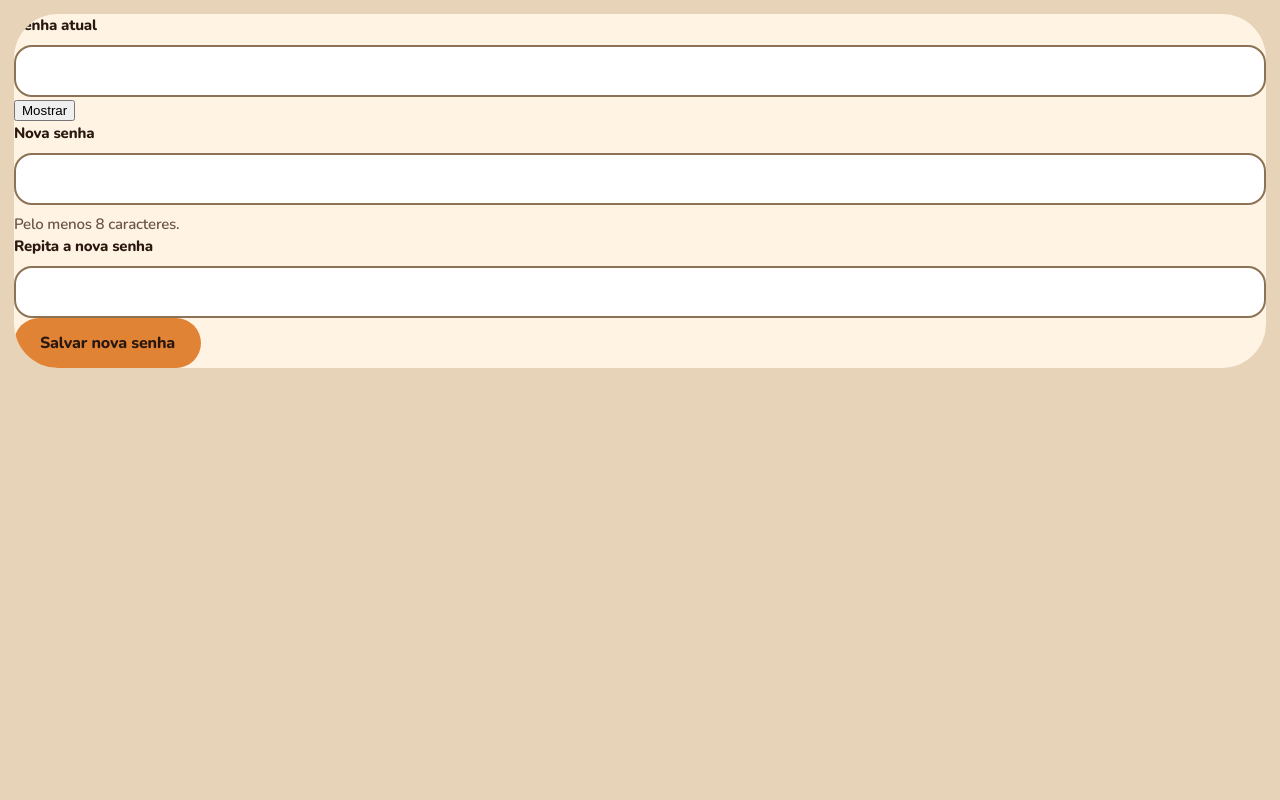
Test: TrocarSenha › deu certo: limpa os campos e avisa
Type "antiga-123" into the password field labelled "Senha atual" at (640, 70), box x1=14 y1=44 x2=1266 y2=96
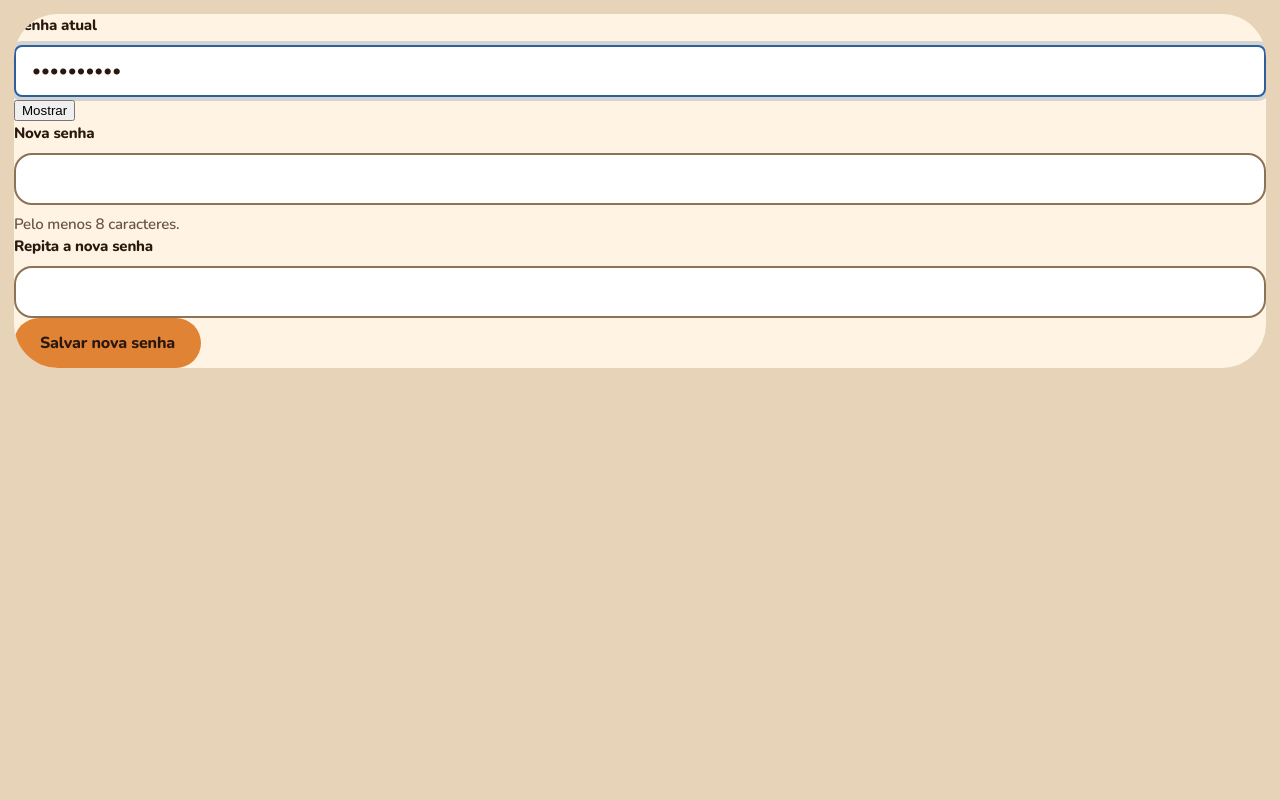
Type "nova-senha-123" into the password field labelled "Nova senha" at (640, 178), box x1=14 y1=152 x2=1266 y2=204
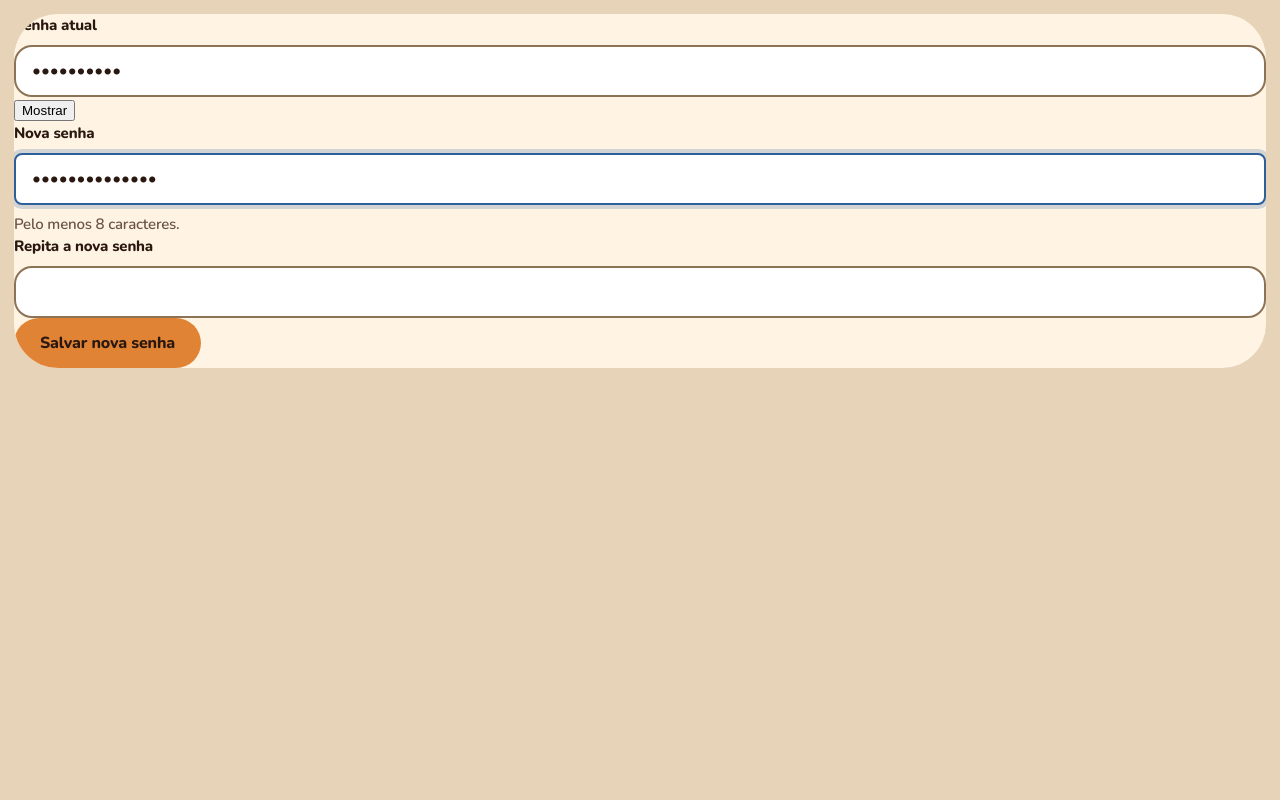
Type "nova-senha-123" into the password field labelled "Repita a nova senha" at (640, 292), box x1=14 y1=266 x2=1266 y2=318
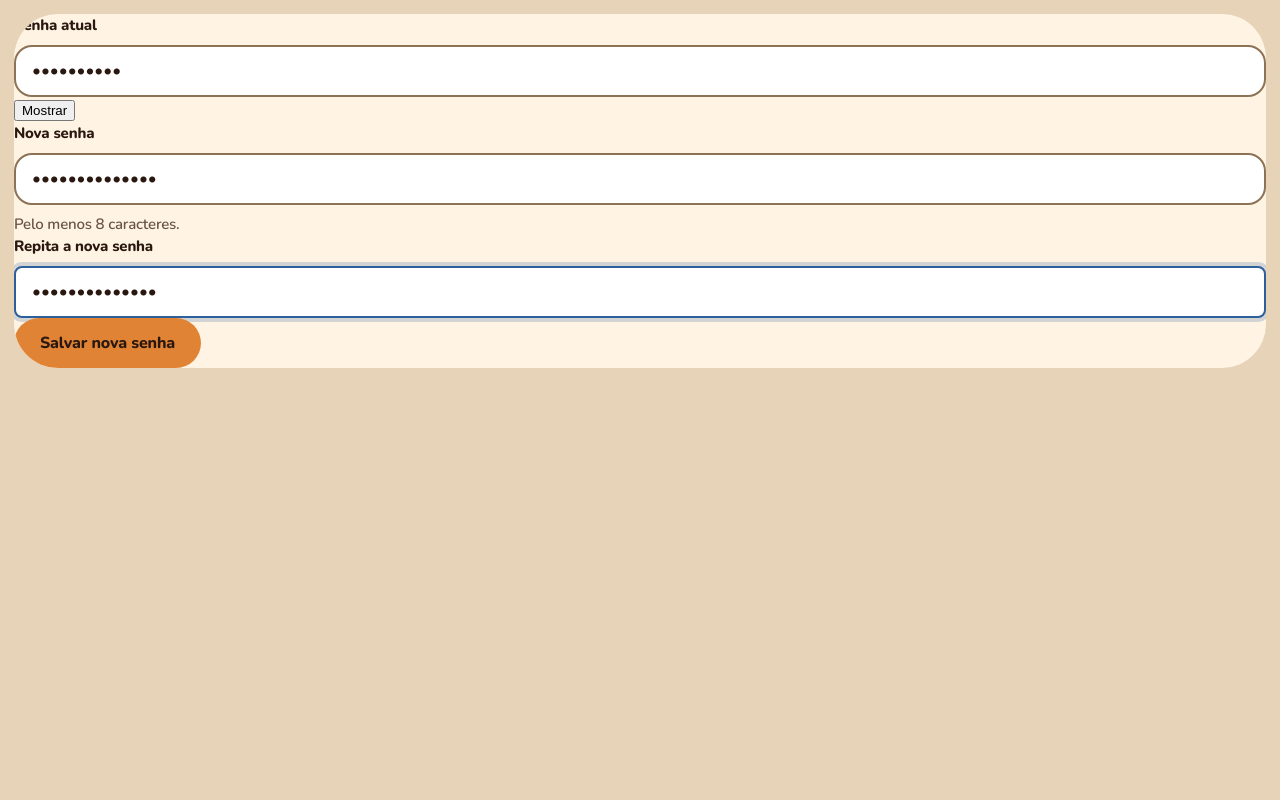
Click the button "Salvar nova senha" at (108, 342), box x1=14 y1=318 x2=201 y2=368
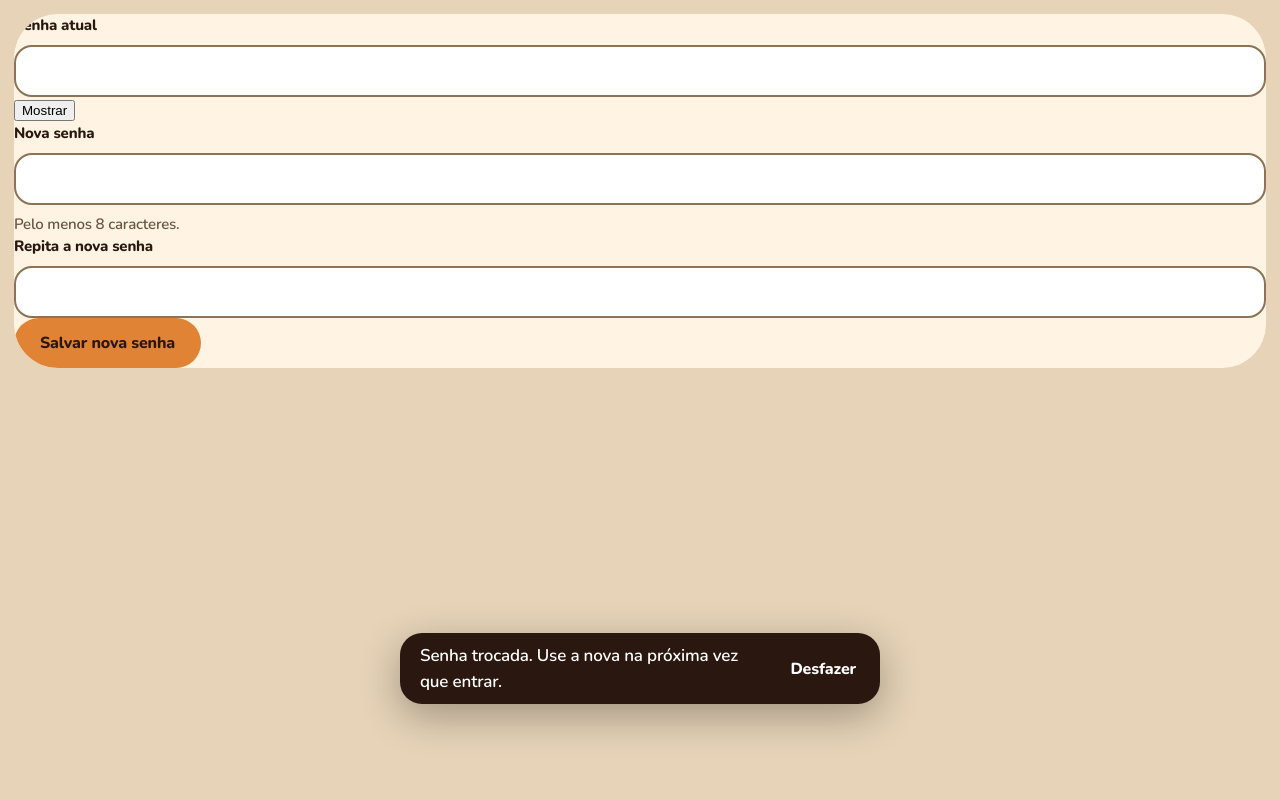
Now the text "Senha trocada. Use a nova na próxima vez que entrar." is shown, box x1=420 y1=643 x2=764 y2=694
Now the password field labelled "Senha atual" is empty, box x1=14 y1=44 x2=1266 y2=96
